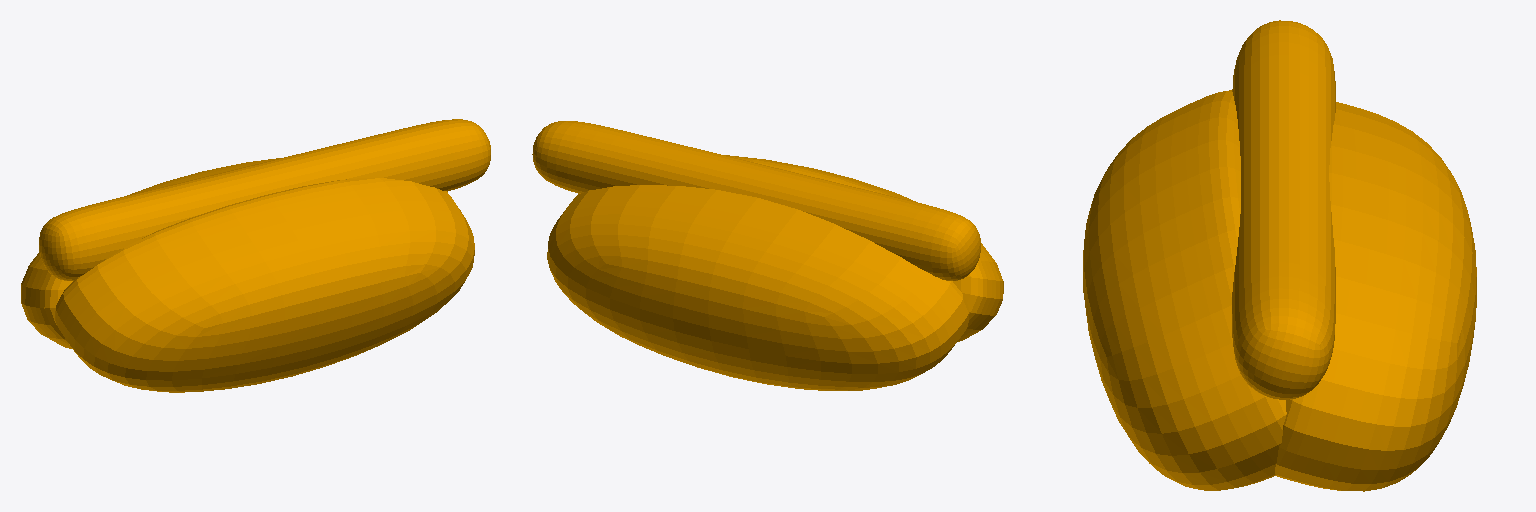
robot.urdf — hotdog:
<?xml version="0.0" ?>
<robot name="hotdog">
  <link name="baseLink">
    <contact>
      <lateral_friction value="1.0"/>
      <rolling_friction value="0.0"/>
      <contact_cfm value="0.0"/>
      <contact_erp value="1.0"/>
    </contact>
    <inertial>
      <origin rpy="1.57 0 0" xyz="0.0 0.0 0.2"/>
       <mass value=".1"/>
       <inertia ixx="1" ixy="0" ixz="0" iyy="1" iyz="0" izz="1"/>
    </inertial>

    <visual>
      <origin rpy="1.57 0 0" xyz="0 0 0.2"/>
      <geometry>
        <mesh filename="meshes/hotdog/hotdog.obj" scale="0.031 0.031 0.031"/>
      </geometry>

    </visual>
    <collision>
      <origin rpy="0 0 0" xyz="0 0 0.2" />
      <geometry>
	 	<box size="0.2 0.033 0.0667" />
      </geometry>
    </collision>
  </link>
</robot>

--- Render facts (derived) ---
Views: 3 orthographic renders of the robot side by side, from view 1: azimuth 30°, elevation 25°; view 2: azimuth 150°, elevation 25°; view 3: azimuth 270°, elevation 25°.
Robot: hotdog — 1 links, 0 joints (none); root link baseLink; default pose: all joints at 0.
Visible links, largest first — view 1: baseLink; view 2: baseLink; view 3: baseLink.
Link boxes in pixels (x1,y1,x2,y2): baseLink: [21, 119, 490, 392]; baseLink: [532, 121, 1003, 390]; baseLink: [1083, 20, 1476, 491].
Size in the robot's own frame: 0.1639 by 0.0859 by 0.0647 metres.
1 mesh visuals loaded from 1 distinct referenced files (1 OBJ).